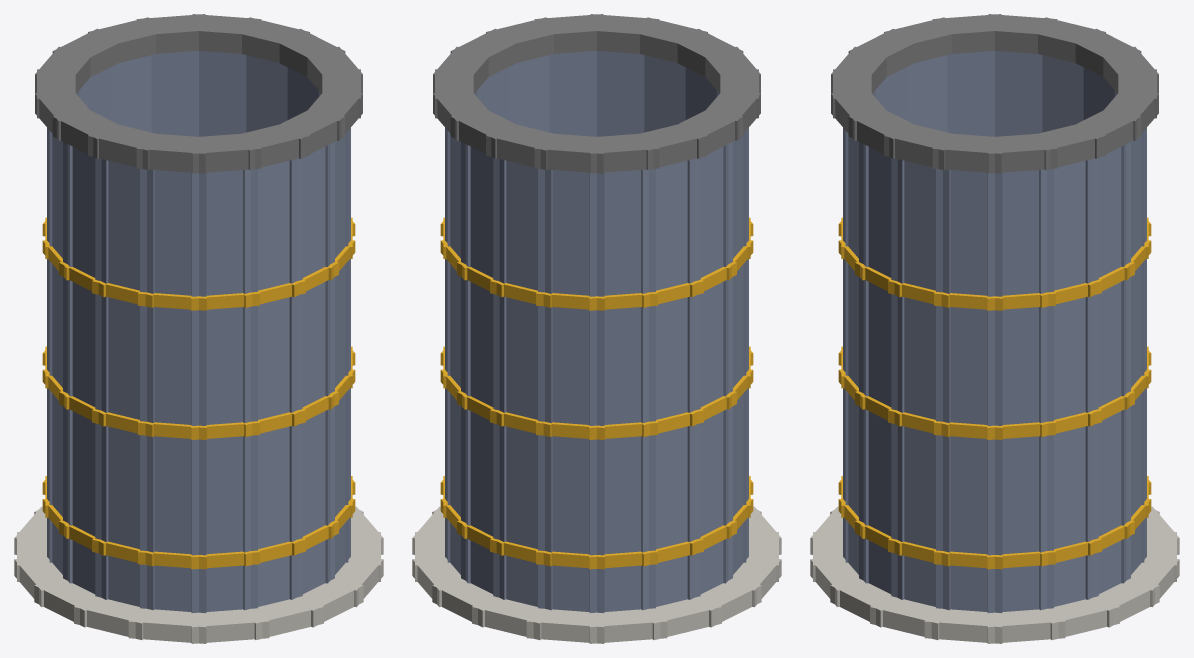
The picture shows the model from 3 angles, left to right: view 1: azimuth 30°, elevation 25°; view 2: azimuth 150°, elevation 25°; view 3: azimuth 270°, elevation 25°; orthographic projection.
Visible parts, largest first — view 1: tube; view 2: tube; view 3: tube.
Part boxes in pixels (x1,y1,x2,y2): tube: [14, 14, 383, 643]; tube: [412, 14, 781, 643]; tube: [810, 14, 1179, 643].
Size of the model in its own units: 4.44 by 6.33 by 4.4.
